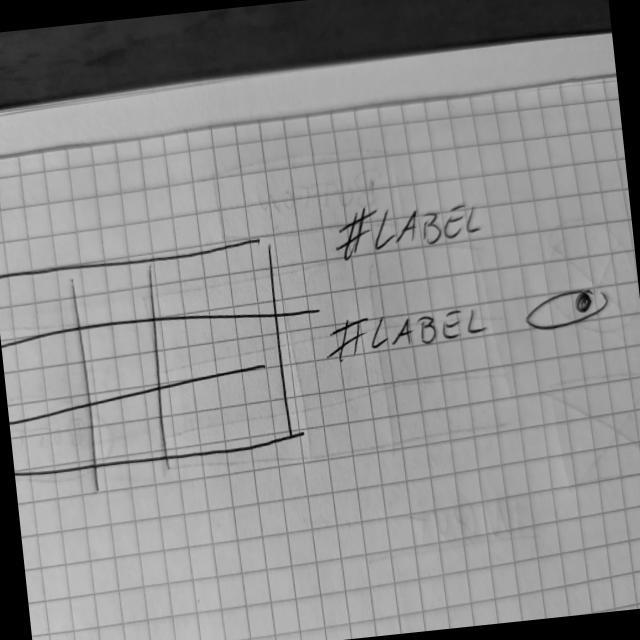label: (332, 191, 490, 265), (324, 296, 490, 366)
table: (0, 230, 300, 486)
toggle: (519, 280, 613, 336)
